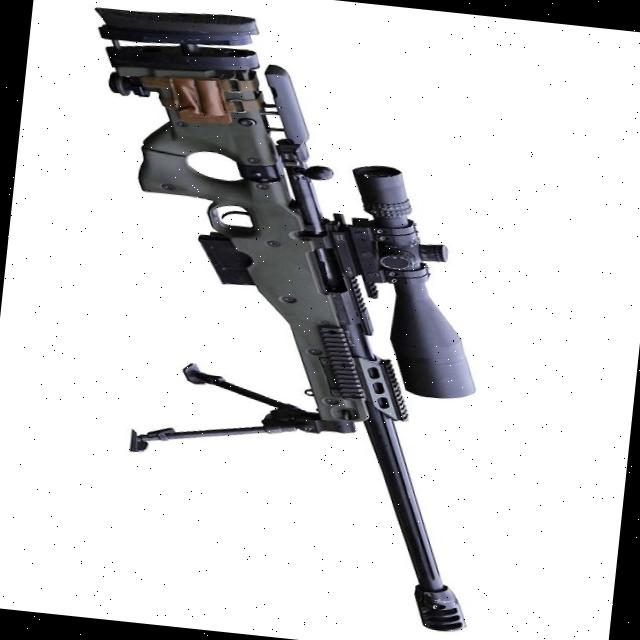Sniper: (34, 8, 514, 640)
